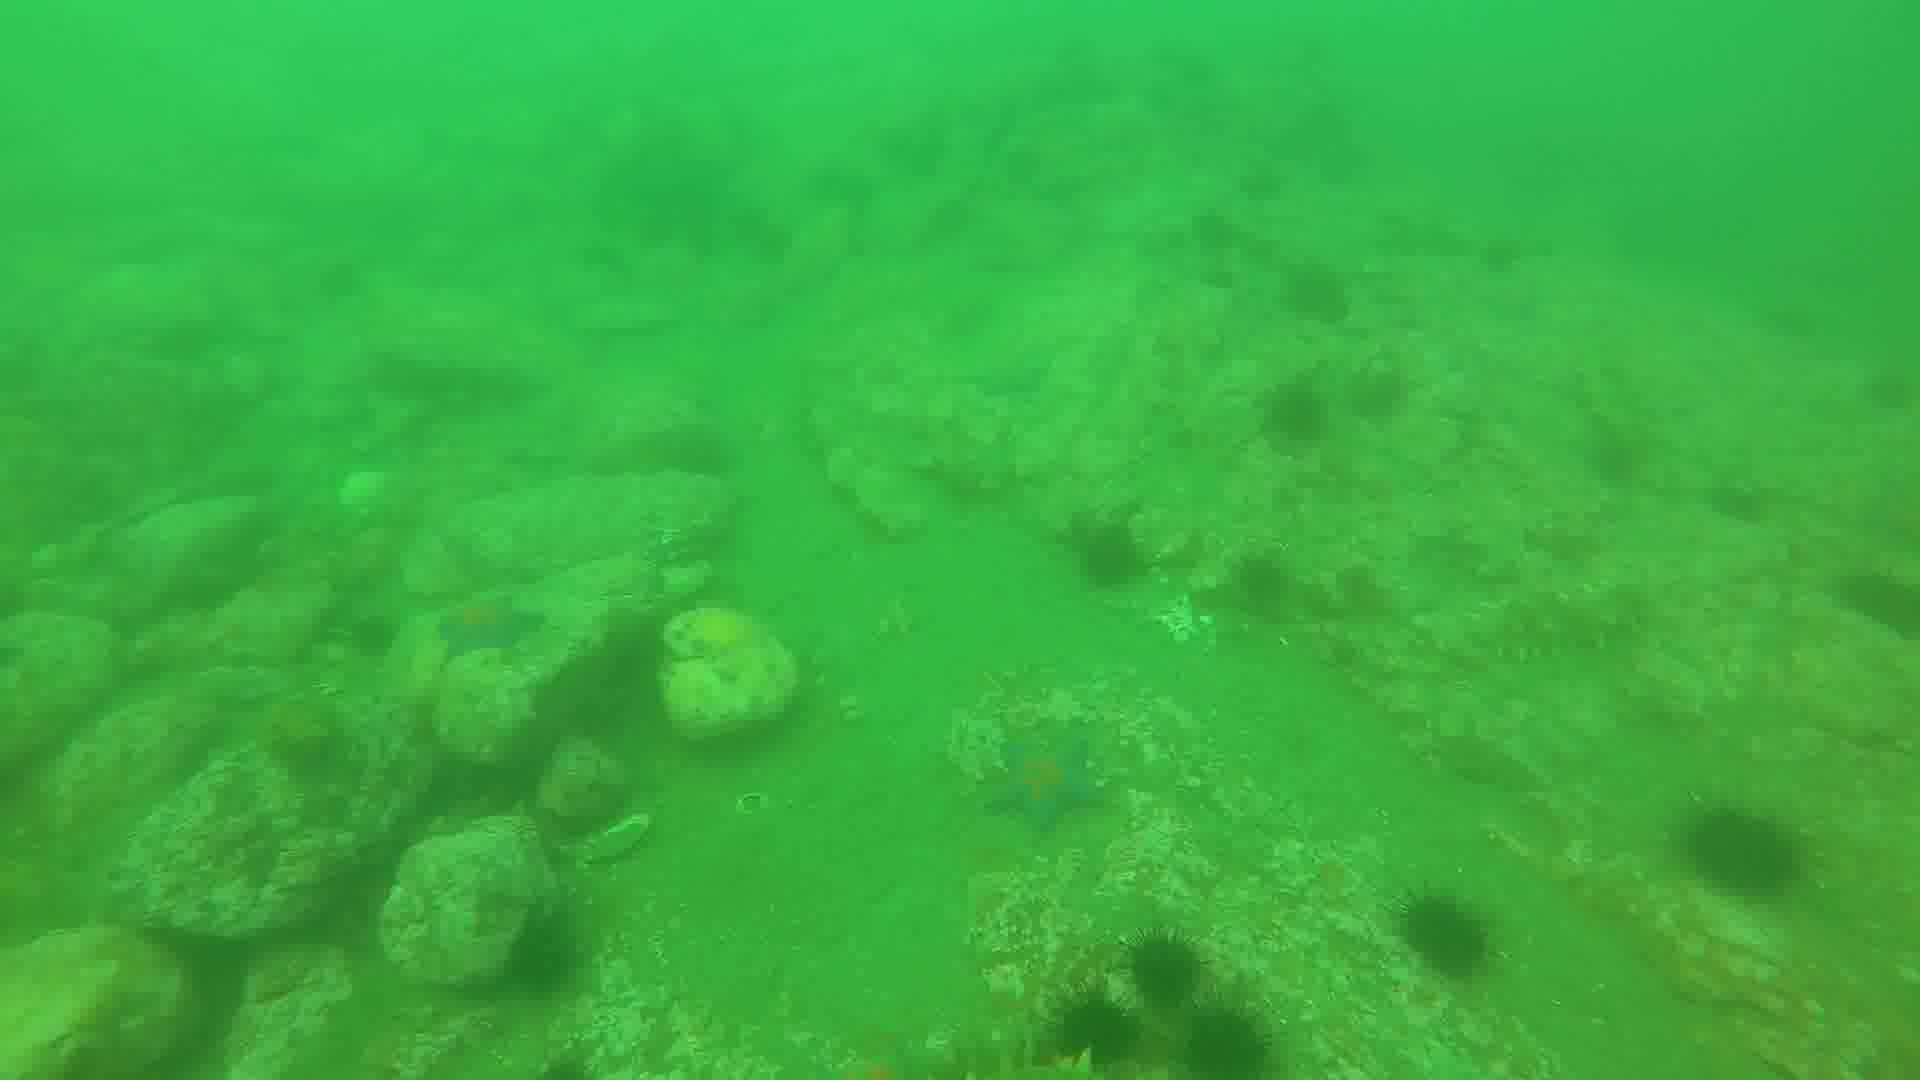echinus: (1684, 808, 1799, 895), (1396, 894, 1493, 982), (1114, 931, 1207, 1013), (1044, 993, 1149, 1062), (1838, 570, 1920, 651), (1183, 1011, 1276, 1080), (514, 924, 592, 988), (1081, 520, 1145, 593), (1273, 381, 1335, 443), (1292, 265, 1360, 320), (1346, 361, 1407, 421), (1586, 439, 1651, 488), (1712, 483, 1766, 539), (1244, 553, 1298, 601)
holothurian: (1495, 582, 1648, 662)
starfish: (978, 724, 1112, 836), (430, 601, 546, 661), (972, 357, 1054, 401)
